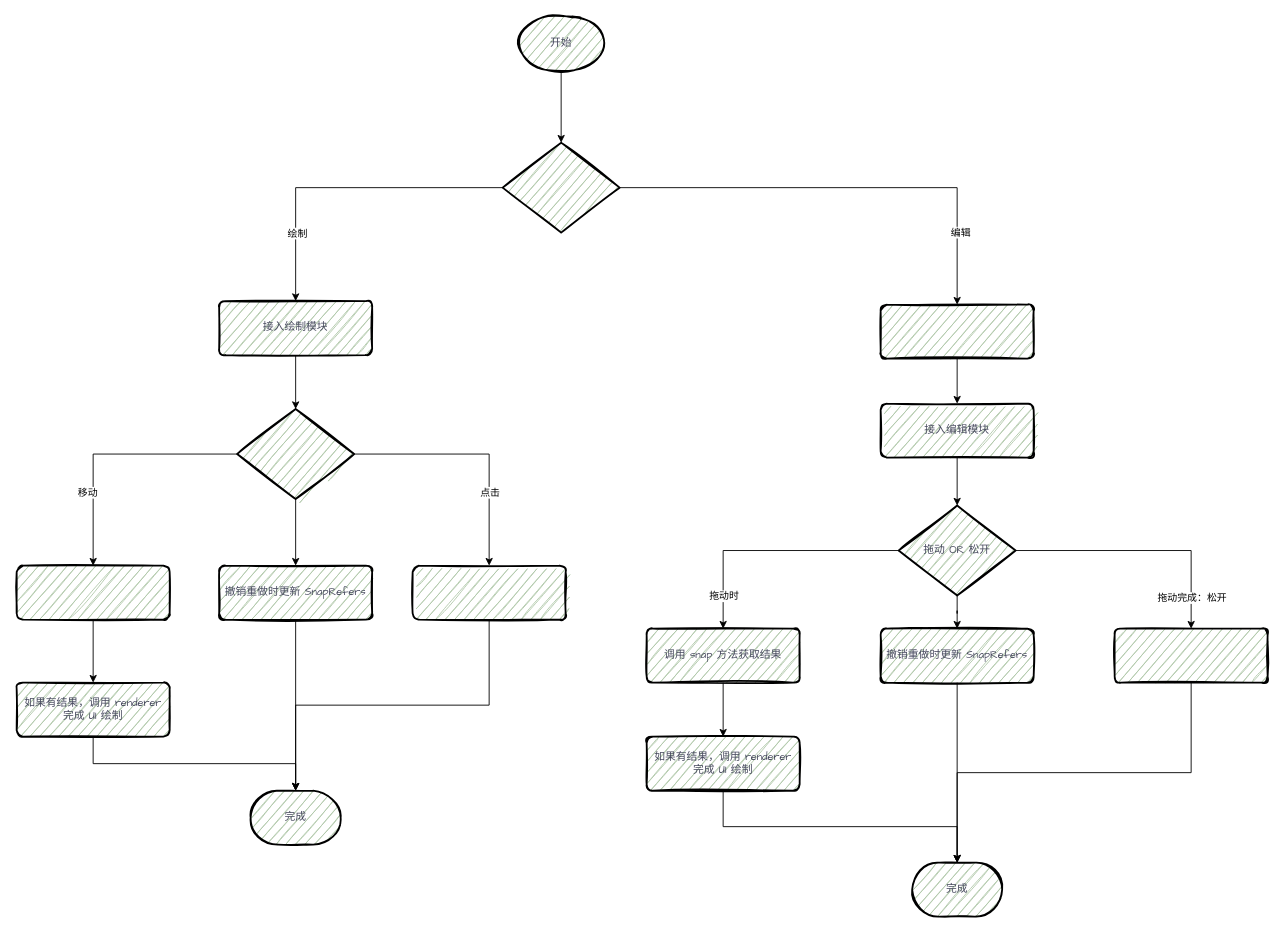
Image size: 1283x932. Some labels were removed from this diagram. The centre of each missing label's shape, as x and y in pixels:
"将已有的点和线段数据加入 calculator" belongs at point (956, 331).
"更新已有的 calculator 中相关数据" belongs at point (1190, 655).
"每完成一个点绘制时，加入对应的 SnapRefer" belongs at point (488, 592).
"点击 OR 移动" belongs at point (295, 454).
"编辑 OR 绘制" belongs at point (560, 187).
"鼠标移动时，调用 snap 方法获取结果" belongs at point (92, 592).
